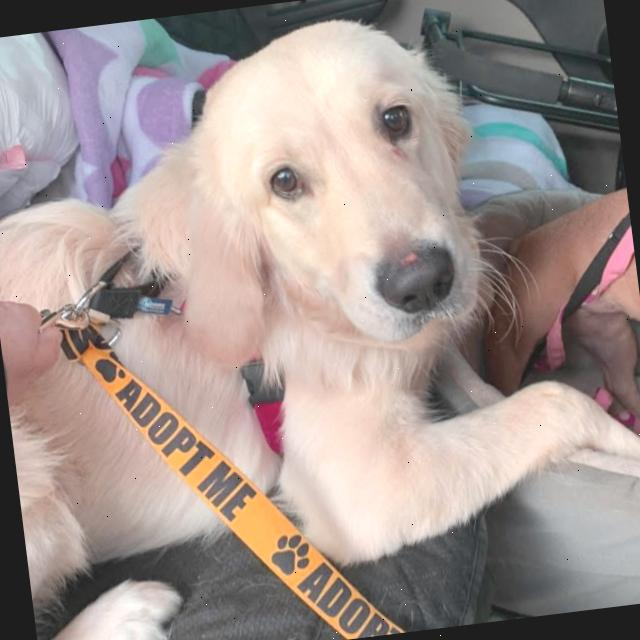golden_retriever_dog: (87, 0, 508, 412)
